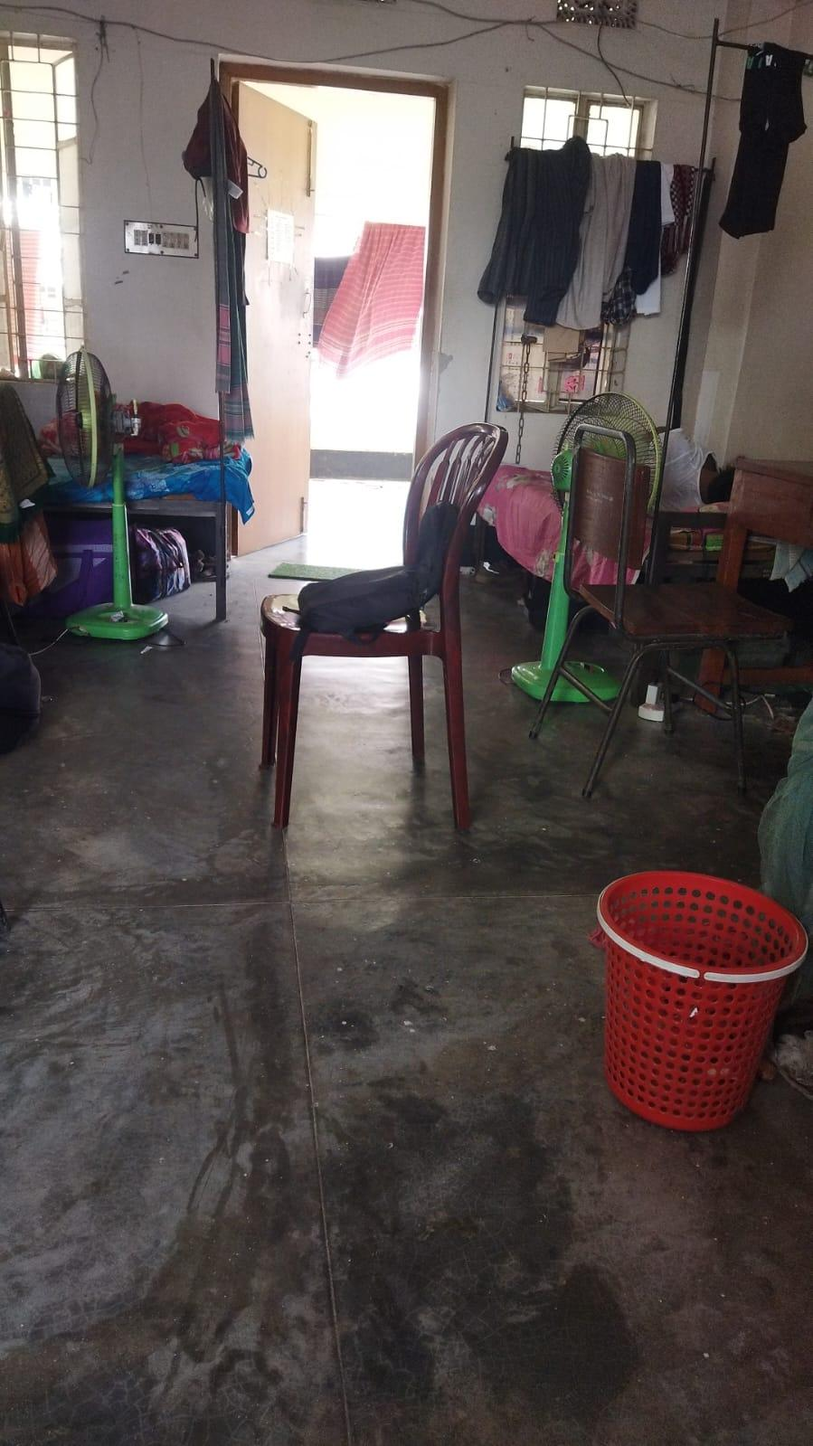Bag: (292, 497, 455, 632)
Basket: (569, 856, 772, 1150)
Chair: (567, 418, 751, 791)
Door: (227, 74, 334, 564)
Fan: (521, 365, 646, 724), (48, 336, 176, 653)
Floor Mat: (241, 437, 483, 892)
Table: (697, 420, 798, 734)
